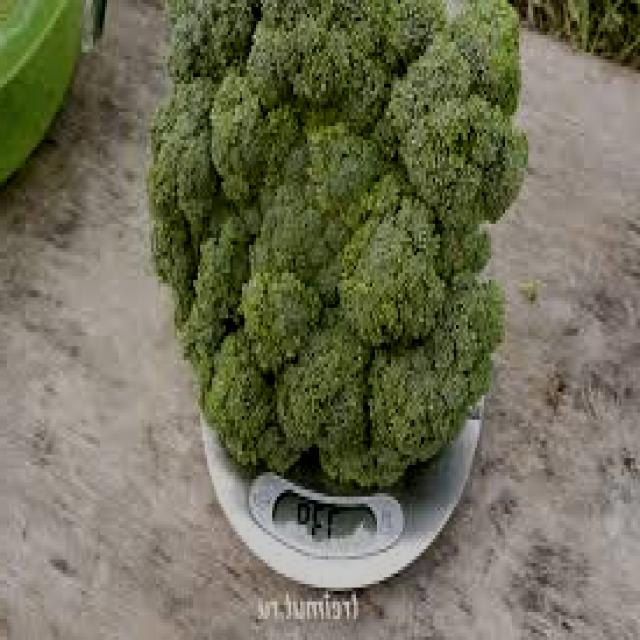broccoli: (146, 13, 536, 466)
